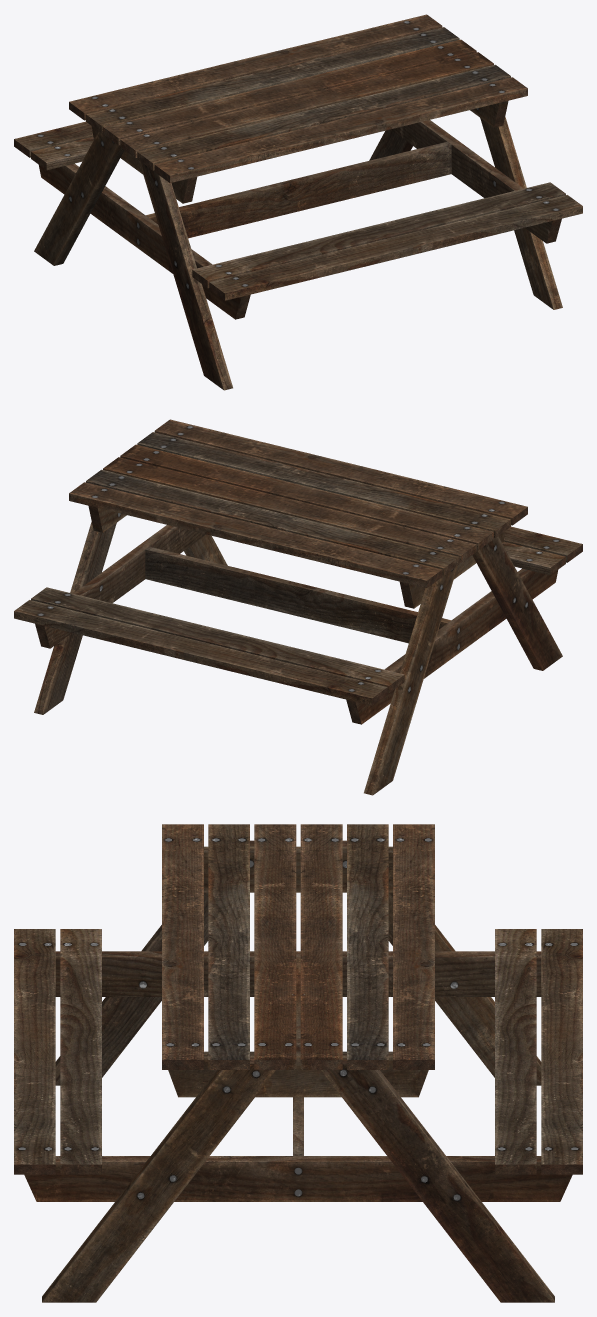
The model's file is picnic_table.obj.
3 views of the same model, one above another, from view 1: azimuth 30°, elevation 25°; view 2: azimuth 150°, elevation 25°; view 3: azimuth 270°, elevation 25° (orthographic). The views are drawn at different scales.
Size of the model in its own units: 16.5 by 8.12 by 16.83.
